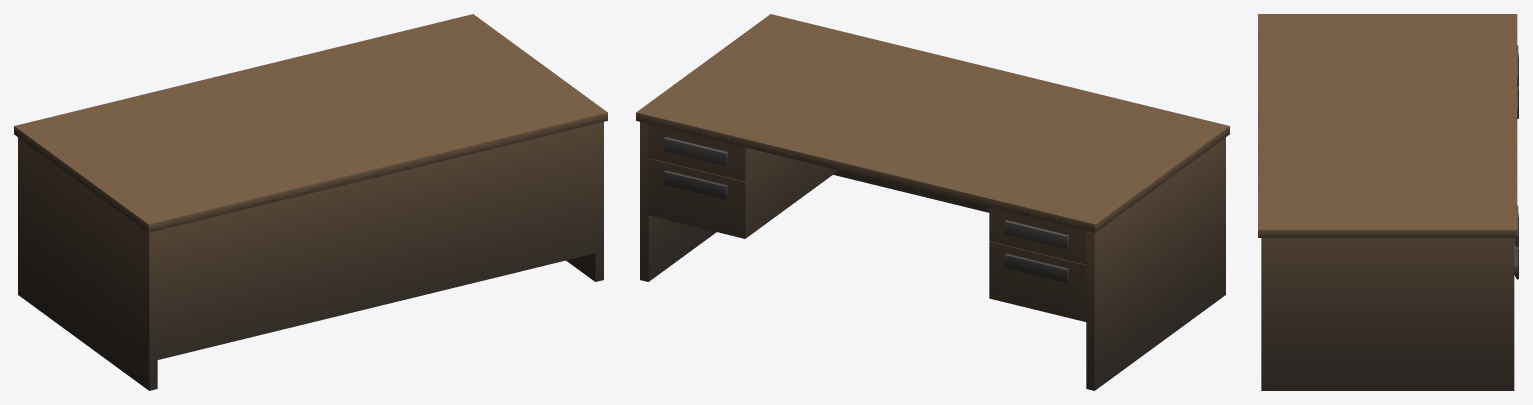
File: Table_OfficeDesk2.fbx
The picture shows the model from 3 angles, left to right: view 1: azimuth 30°, elevation 25°; view 2: azimuth 150°, elevation 25°; view 3: azimuth 270°, elevation 25°; orthographic projection. The views are drawn at different scales.
Parts seen in each view (by area): view 1: Table_OfficeDesk2; view 2: Table_OfficeDesk2; view 3: Table_OfficeDesk2.
Boxes of the visible parts, <box> form: Table_OfficeDesk2: <box>14,14,607,390</box>; Table_OfficeDesk2: <box>636,14,1229,390</box>; Table_OfficeDesk2: <box>1258,14,1518,390</box>.
Size of the model in its own units: 210 by 73.44 by 107.
